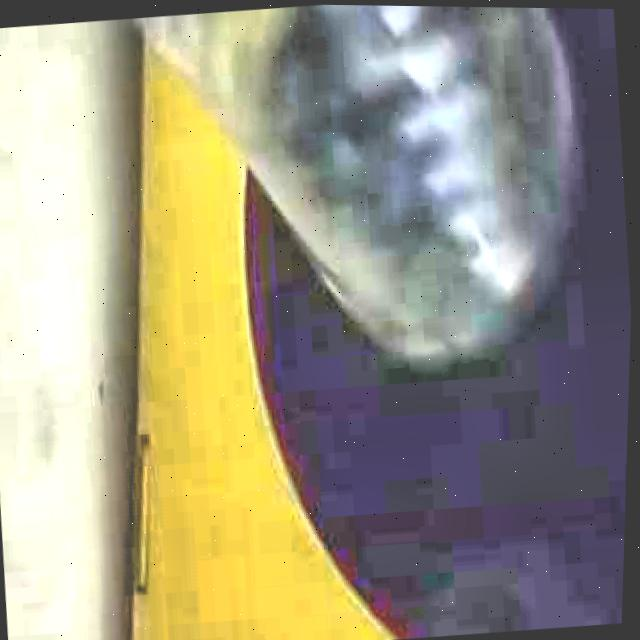plastic: (142, 4, 572, 352)
